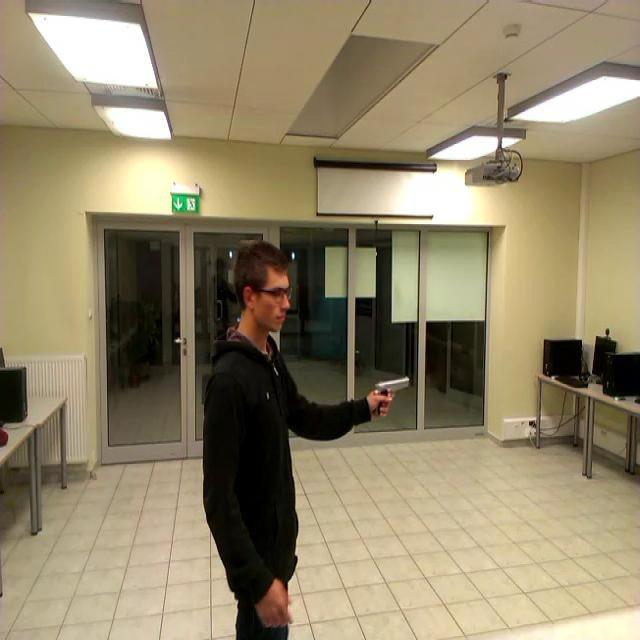weapon: (374, 380, 410, 419)
